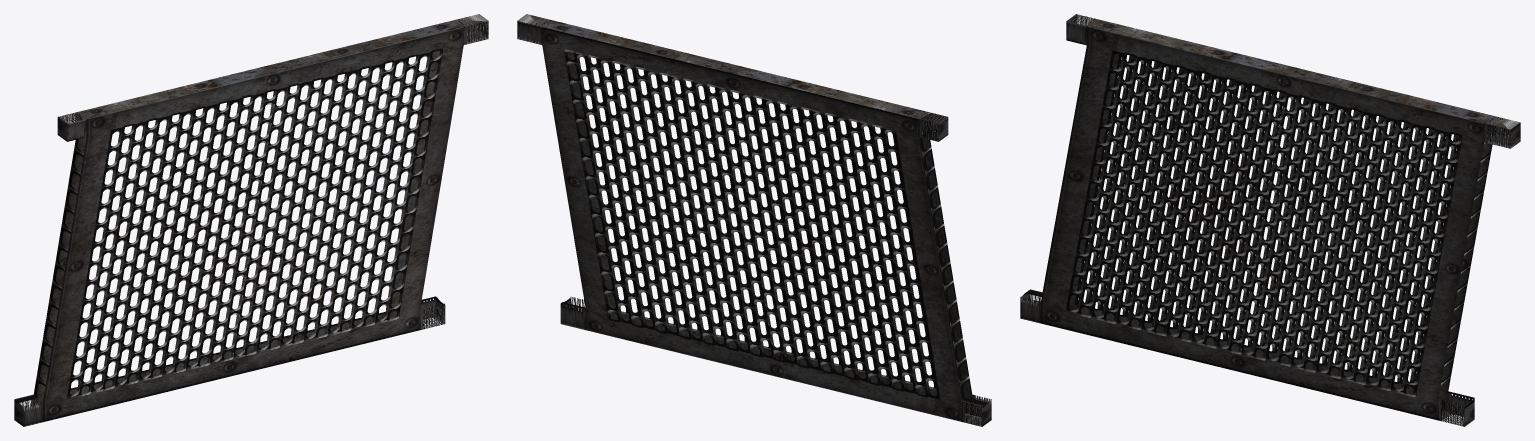
Rendered from fence2.FBX.
3 renders of one model, left to right at view 1: azimuth 30°, elevation 25°; view 2: azimuth 150°, elevation 25°; view 3: azimuth 330°, elevation 25°, orthographic. The views are drawn at different scales.
Parts seen in each view (by area): view 1: fance01; view 2: fance01; view 3: fance01.
Boxes of the visible parts, x1,y1,x2,y2 form: fance01: (14, 14, 488, 426); fance01: (517, 14, 991, 426); fance01: (1020, 14, 1520, 426).
Bounding box in the file's own units: 400 × 240 × 14.09.
1 material, 1 textured.
